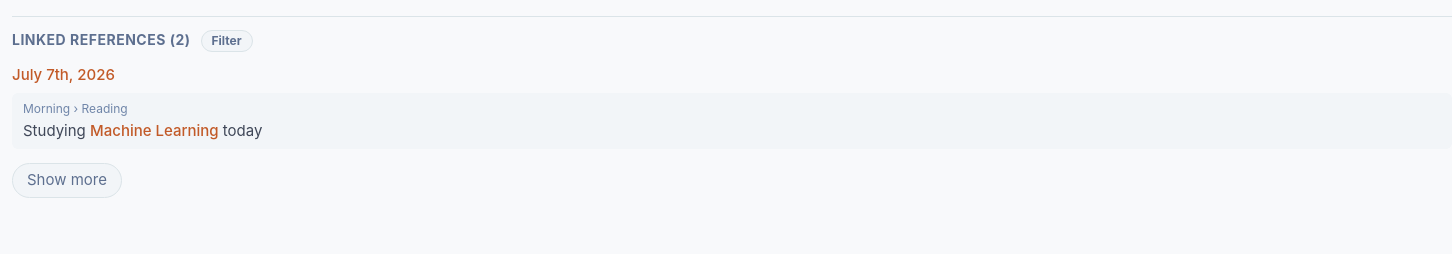
renders backlink groups with breadcrumbs and loads more on demand
This screenshot has width=1452, height=254.
Expected: the heading "Linked references (2) Filter" is shown, x1=12 y1=30 x2=253 y2=52
Expected: the text "Morning › Reading" is shown, x1=23 y1=100 x2=128 y2=116
Click the button "Show more". click: (67,180)
box: x1=12 y1=163 x2=122 y2=198
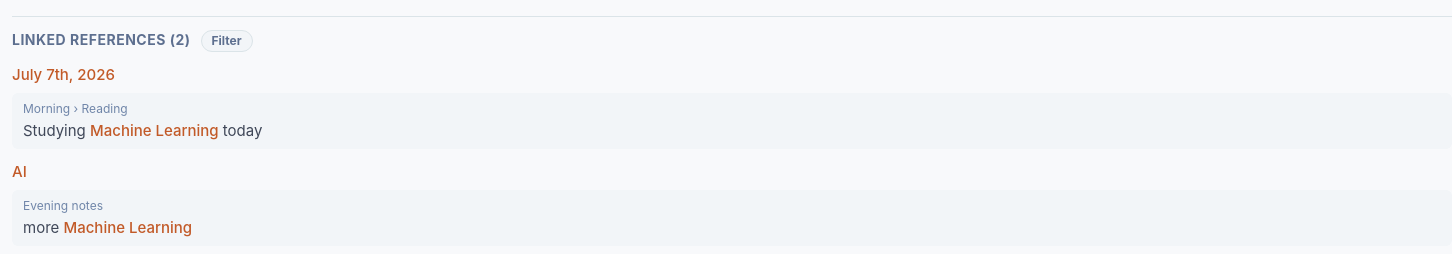
Expected: the link "AI" is shown, x1=12 y1=162 x2=27 y2=181
Expected: the text "Evening notes" is shown, x1=23 y1=198 x2=103 y2=212
Expected: the button "Show more" is gone
